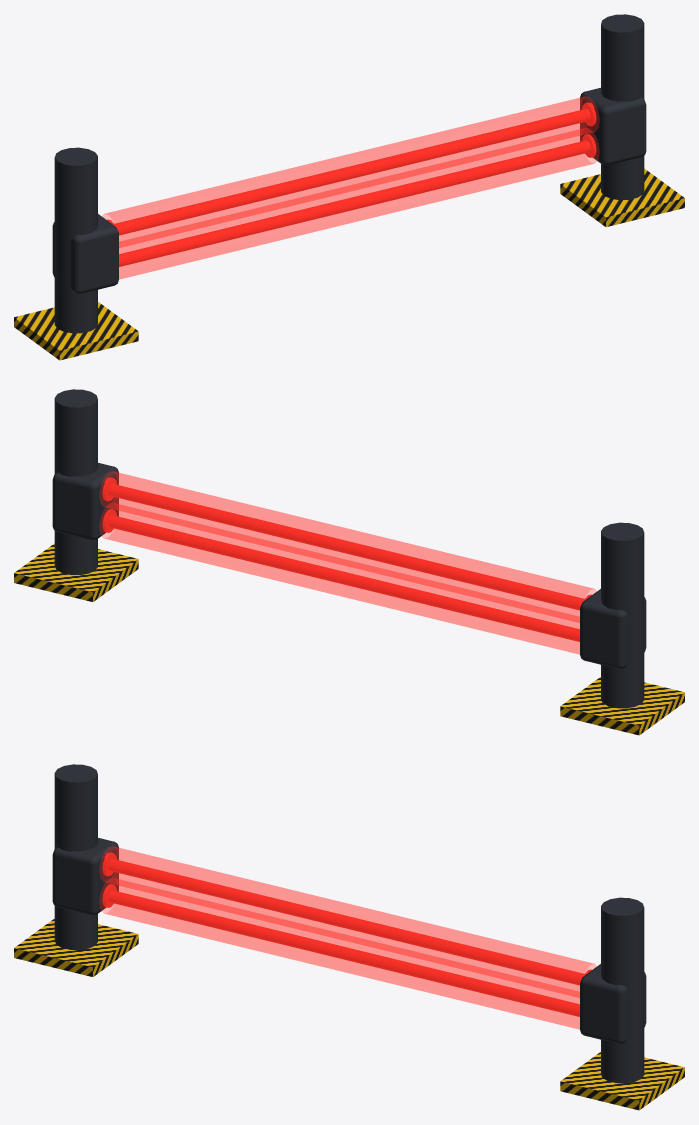
The model's file is obstacle_laser.glb.
The picture shows the model from 3 angles, top to bottom: view 1: azimuth 30°, elevation 25°; view 2: azimuth 150°, elevation 25°; view 3: azimuth 330°, elevation 25°; orthographic projection.
Visible parts, largest first — view 1: LaserFence; view 2: LaserFence; view 3: LaserFence.
Part boxes in pixels (box(x1,y1,x2,y2)): LaserFence: box(14, 14, 684, 360); LaserFence: box(14, 389, 684, 735); LaserFence: box(14, 764, 684, 1110).
Bounding box in the file's own units: 3.32 × 0.9 × 0.42.
4 materials, 1 textured.
